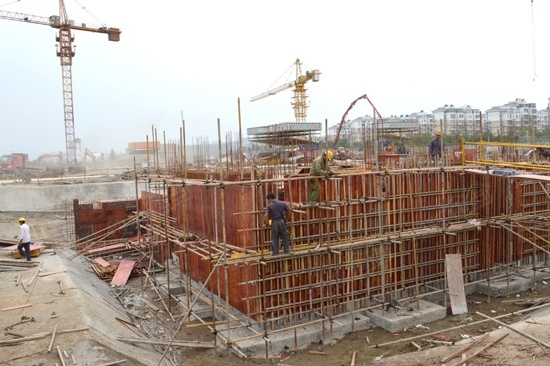none: (265, 192, 275, 203)
yellow: (322, 150, 333, 161), (17, 216, 26, 226), (433, 129, 441, 138)
